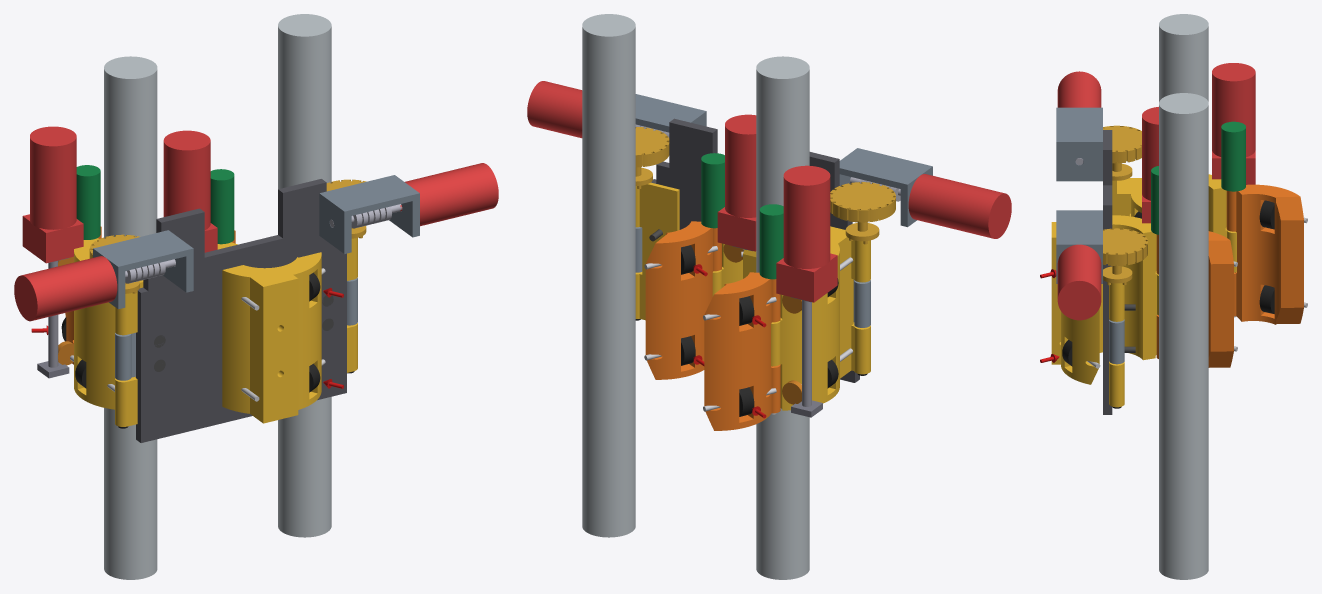
File: sleeves_released_off.glb
3 renders of one model, left to right at view 1: azimuth 30°, elevation 25°; view 2: azimuth 150°, elevation 25°; view 3: azimuth 270°, elevation 25°, orthographic. The views are drawn at different scales.
Visible parts, largest first — view 1: base_plate, track_pipe_B, track_pipe_C, hand_C_sleeve, hinge_B_worm_motor, hand_B_drive_motor, hinge_C_worm_bracket, hand_B_sleeve, hand_C_drive_motor, hinge_C_worm_motor, hinge_B_worm_bracket, hand_B_gearbox (+8 smaller); view 2: track_pipe_C, track_pipe_B, hand_B_jaw, hand_C_jaw, hand_B_sleeve, base_plate, hand_B_drive_motor, hinge_B_worm_motor, hand_C_drive_motor, hinge_C_sleeve_leaf_knuckles, hinge_B_worm_bracket, hinge_B_worm_wheel_hub (+14 smaller); view 3: track_pipe_C, hand_B_jaw, hand_C_sleeve, track_pipe_B, hand_C_jaw, hinge_B_worm_bracket, hand_B_drive_motor, hinge_C_worm_motor, hinge_C_worm_wheel_hub, hand_B_sleeve, hinge_C_worm_bracket, base_plate (+11 smaller).
Part boxes in pixels (x1,y1,x2,y2): base_plate: [136, 179, 346, 442]; track_pipe_B: [104, 56, 157, 579]; track_pipe_C: [278, 14, 331, 537]; hand_C_sleeve: [217, 242, 321, 423]; hinge_B_worm_motor: [14, 256, 117, 321]; hand_B_drive_motor: [30, 126, 76, 229]; hinge_C_worm_bracket: [319, 175, 419, 253]; hand_B_sleeve: [74, 238, 114, 409]; hand_C_drive_motor: [163, 130, 210, 230]; hinge_C_worm_motor: [400, 163, 498, 226]; hinge_B_worm_bracket: [93, 230, 193, 309]; hand_B_gearbox: [22, 214, 83, 263]; track_pipe_C: [582, 14, 635, 537]; track_pipe_B: [756, 56, 809, 579]; hand_B_jaw: [704, 272, 780, 430]; hand_C_jaw: [645, 221, 721, 379]; hand_B_sleeve: [743, 229, 851, 410]; base_plate: [651, 118, 859, 382]; hand_B_drive_motor: [783, 165, 830, 268]; hinge_B_worm_motor: [908, 174, 1011, 238]; hand_C_drive_motor: [725, 114, 756, 217]; hinge_C_sleeve_leaf_knuckles: [635, 182, 679, 320]; hinge_B_worm_bracket: [839, 148, 932, 227]; hinge_B_worm_wheel_hub: [830, 182, 895, 244]; track_pipe_C: [1159, 93, 1208, 579]; hand_B_jaw: [1226, 184, 1303, 324]; hand_C_sleeve: [1051, 215, 1158, 384]; track_pipe_B: [1159, 14, 1208, 101]; hand_C_jaw: [1156, 231, 1233, 367]; hinge_B_worm_bracket: [1056, 107, 1102, 181]; hand_B_drive_motor: [1212, 63, 1255, 157]; hinge_C_worm_motor: [1057, 244, 1101, 320]; hinge_C_worm_wheel_hub: [1103, 228, 1147, 285]; hand_B_sleeve: [1121, 174, 1236, 272]; hinge_C_worm_bracket: [1056, 210, 1102, 283]; base_plate: [1103, 130, 1112, 414].
Size of the model in its own units: 318 by 330 by 172.
